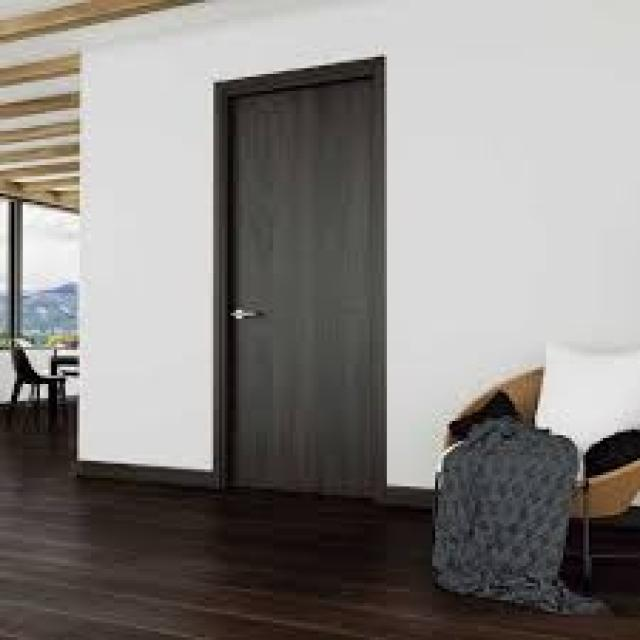door: (213, 57, 387, 501)
